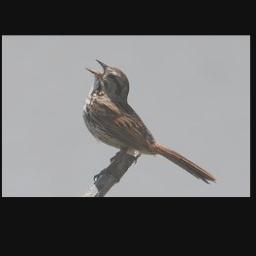Sparrow: (83, 58, 218, 186)
